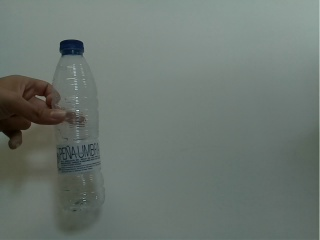botella plastico: (46, 36, 109, 216)
